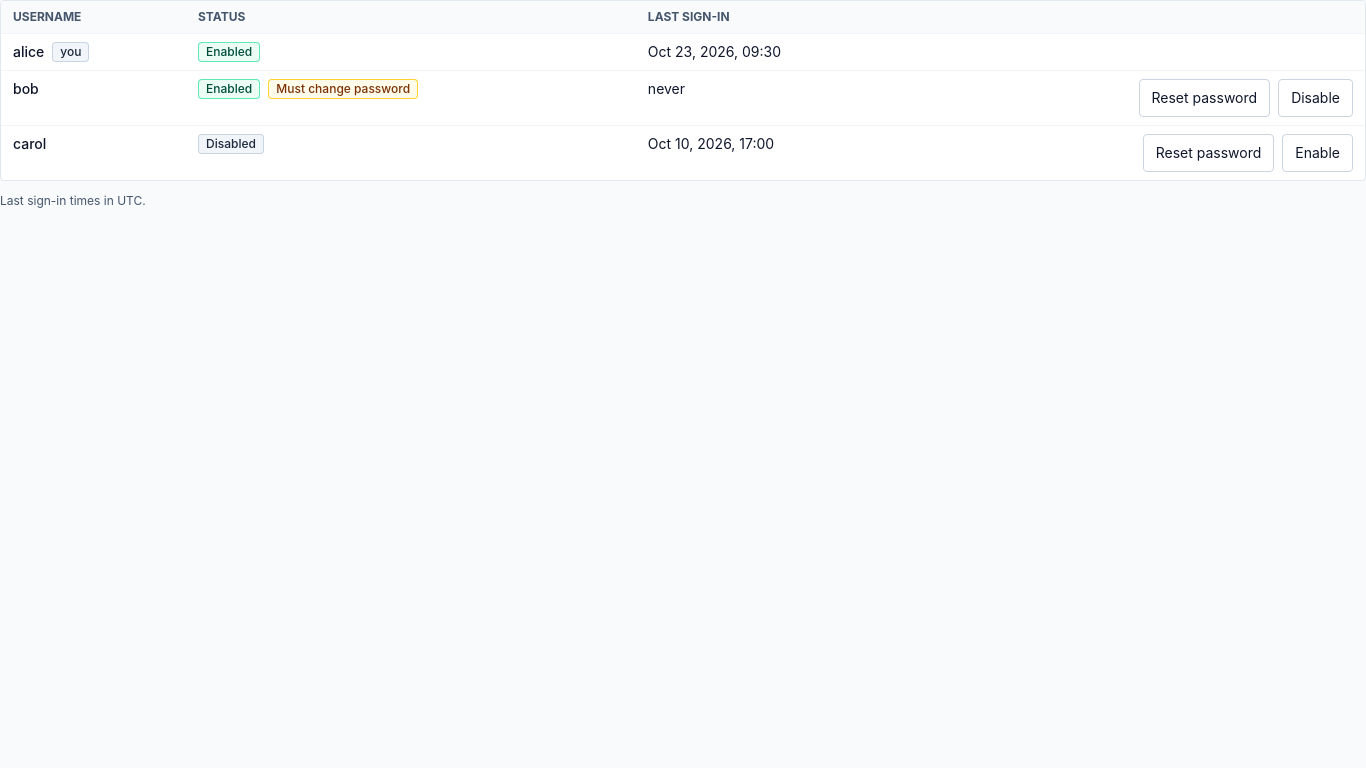
Scenario: OperatorsTable: disable › closes the confirmation and says what changed after a success
Click the button with aria-label "Disable bob" at point(1316, 98), box x1=1278 y1=79 x2=1353 y2=117
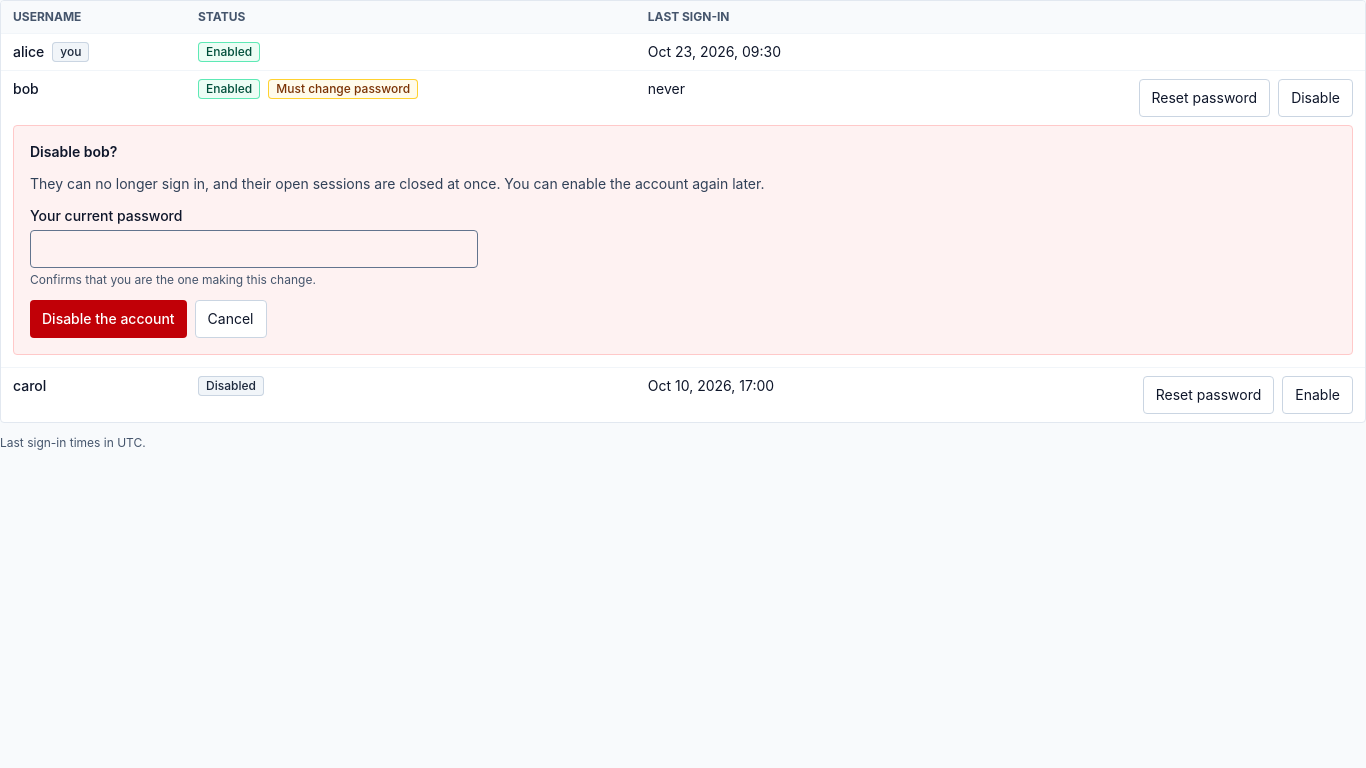
Type "my current password" into the password field labelled "Your current password" at point(254, 249), box x1=30 y1=230 x2=478 y2=268
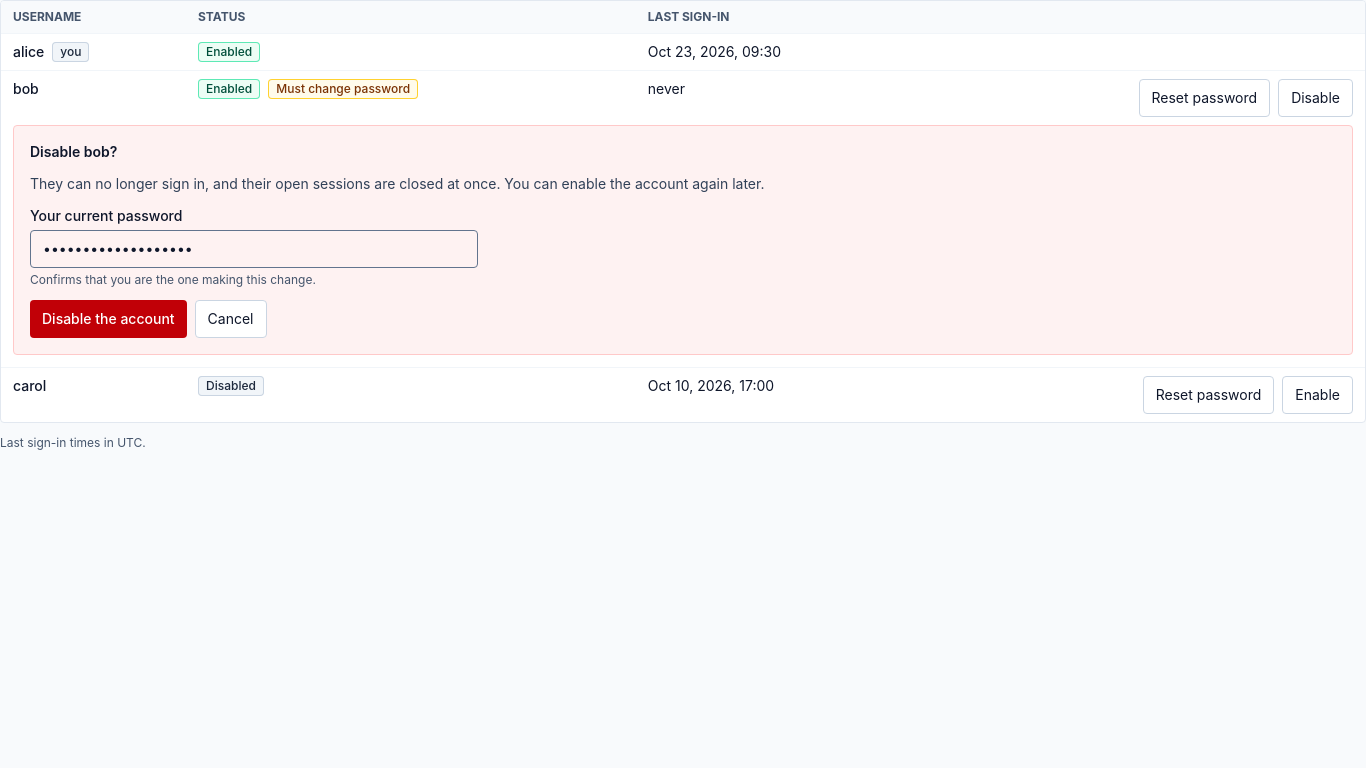
Click the button "Disable the account" at point(108, 319), box x1=30 y1=300 x2=187 y2=338
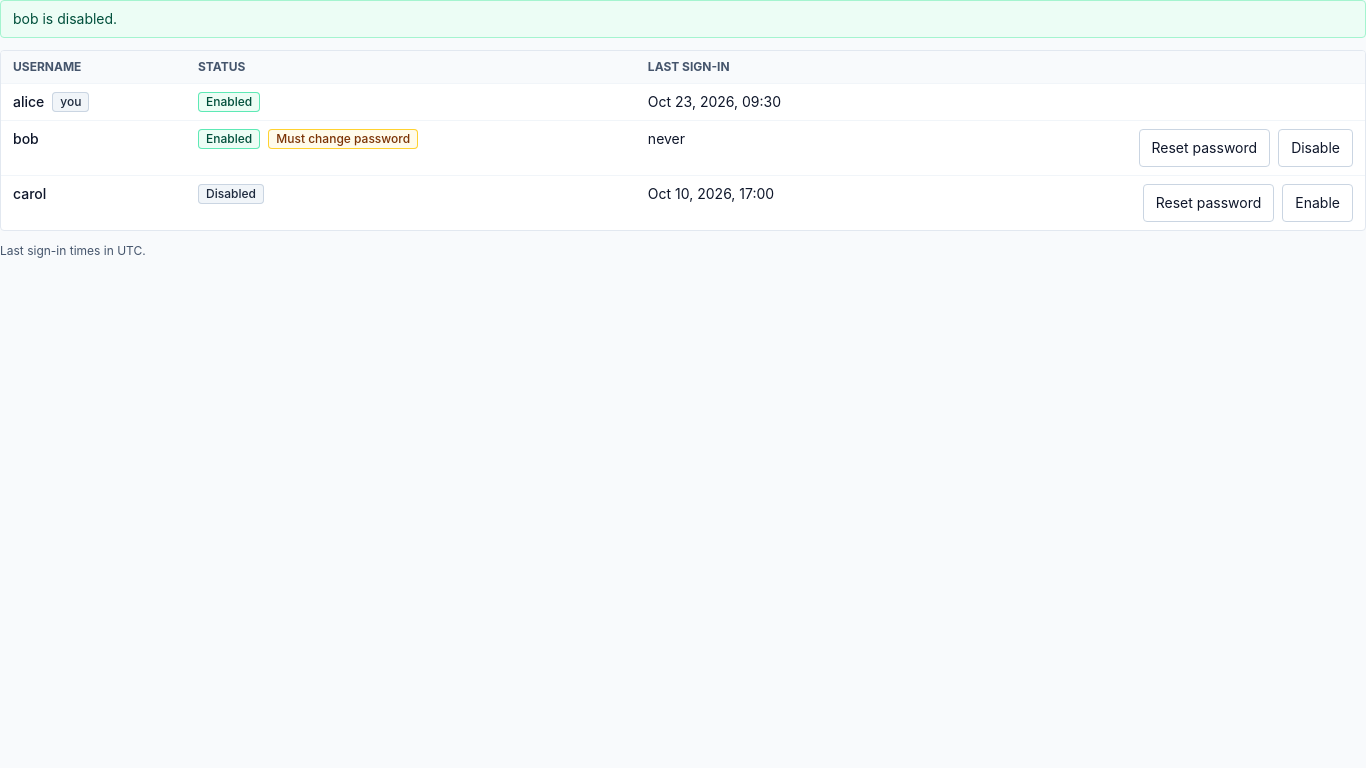
Now the message reads "bob is disabled.", box x1=13 y1=10 x2=117 y2=27
Now the dialog is gone
